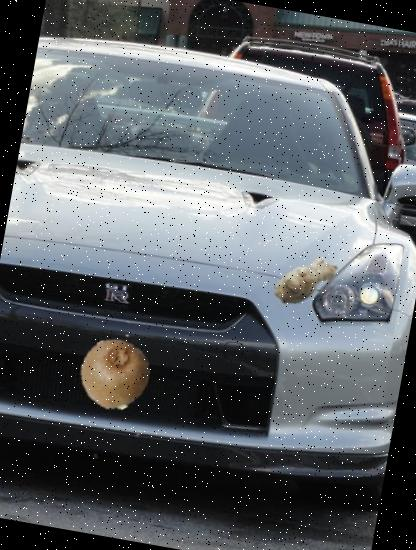Ginger: (265, 240, 347, 322)
Kiwi: (74, 332, 156, 414)
